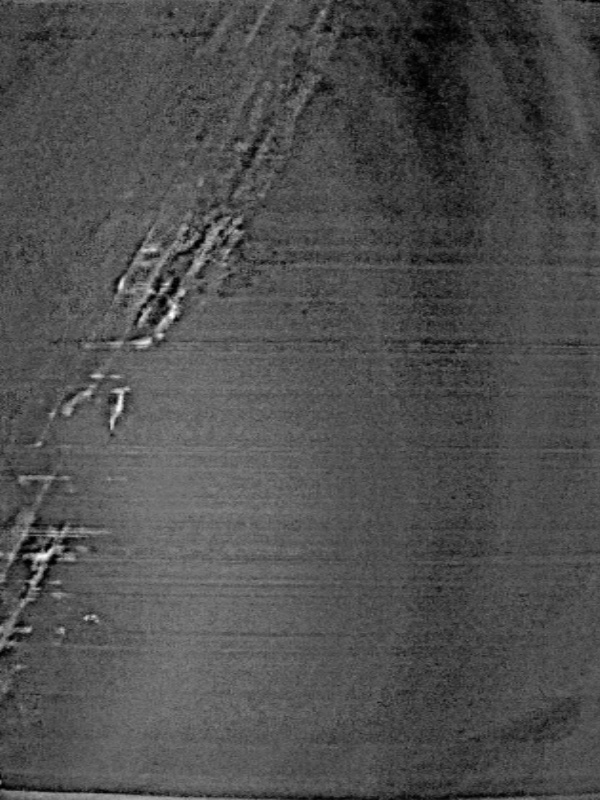splice_vulcanized: (2, 1, 335, 678)
